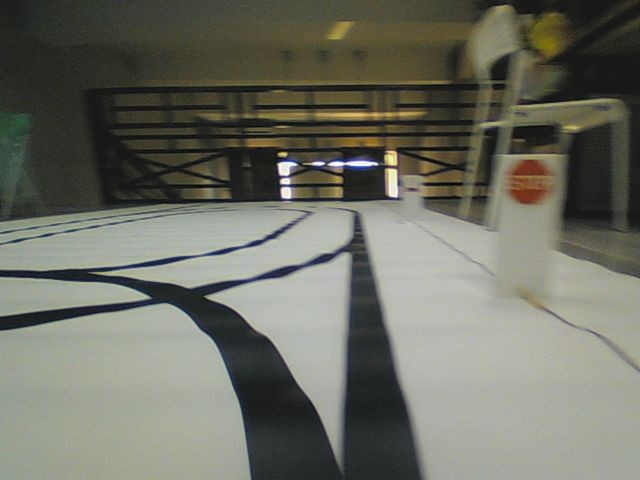Stop: (509, 158, 553, 205)
